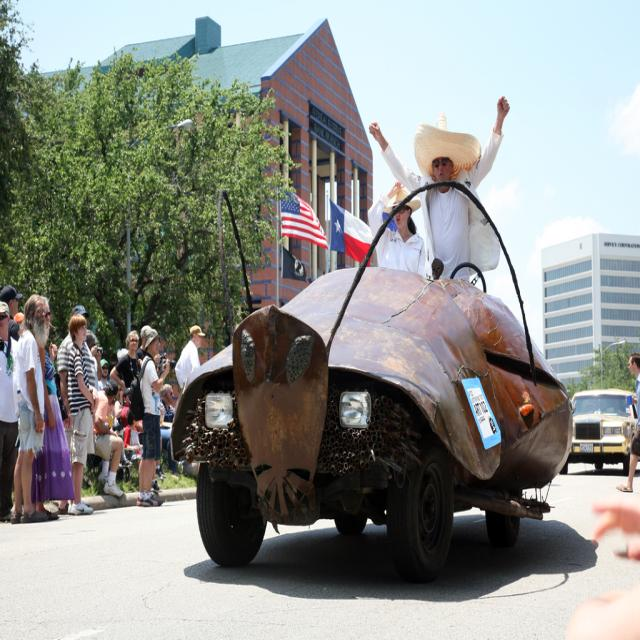car: (170, 173, 574, 578)
